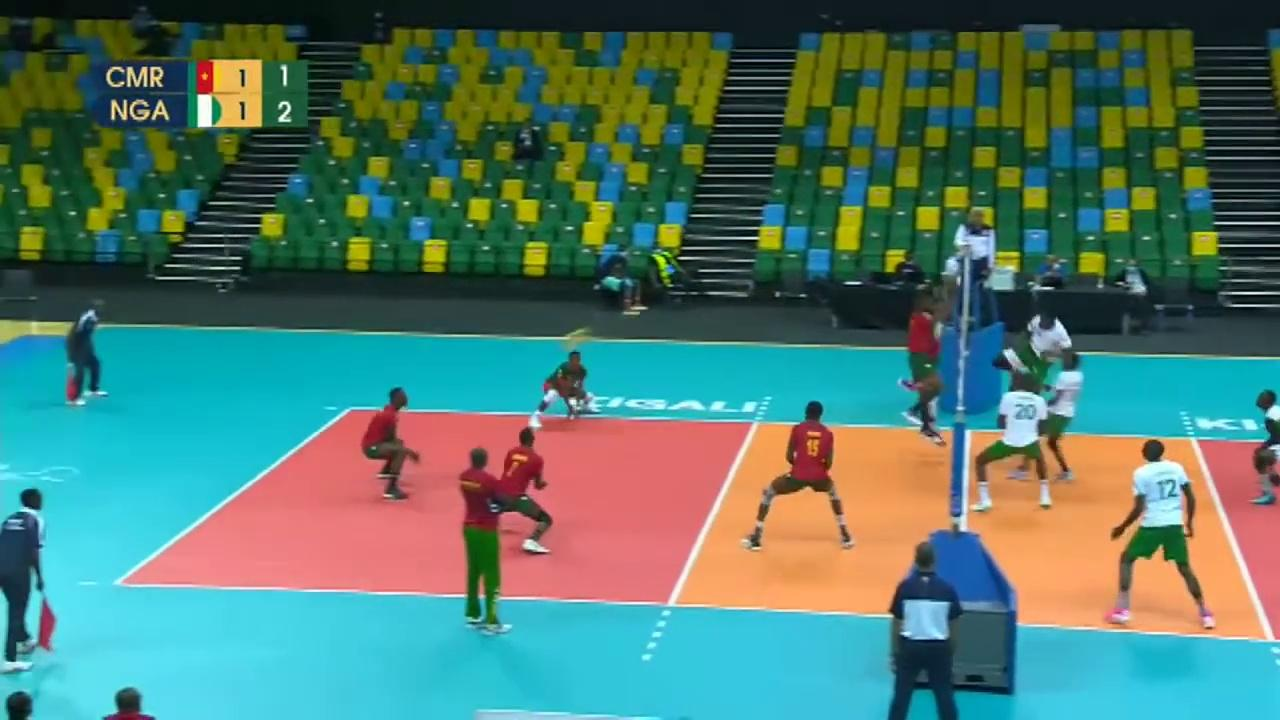player: (1105, 442, 1213, 624), (741, 407, 861, 547), (981, 374, 1066, 509), (1011, 349, 1087, 481), (991, 310, 1074, 408), (489, 429, 553, 553), (905, 299, 954, 449), (363, 390, 419, 500), (534, 349, 599, 434), (1250, 389, 1280, 509)
refree: (878, 529, 968, 720), (0, 491, 57, 664), (954, 206, 1000, 311), (68, 301, 106, 406)
